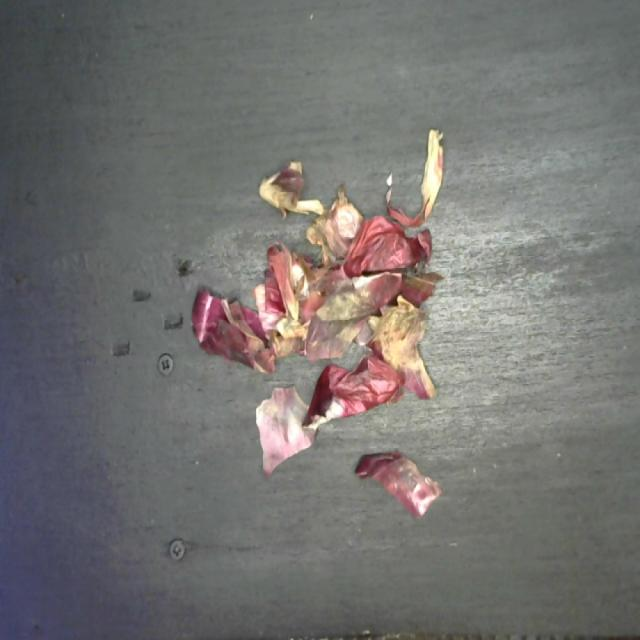biodegradable: (190, 124, 447, 516)
